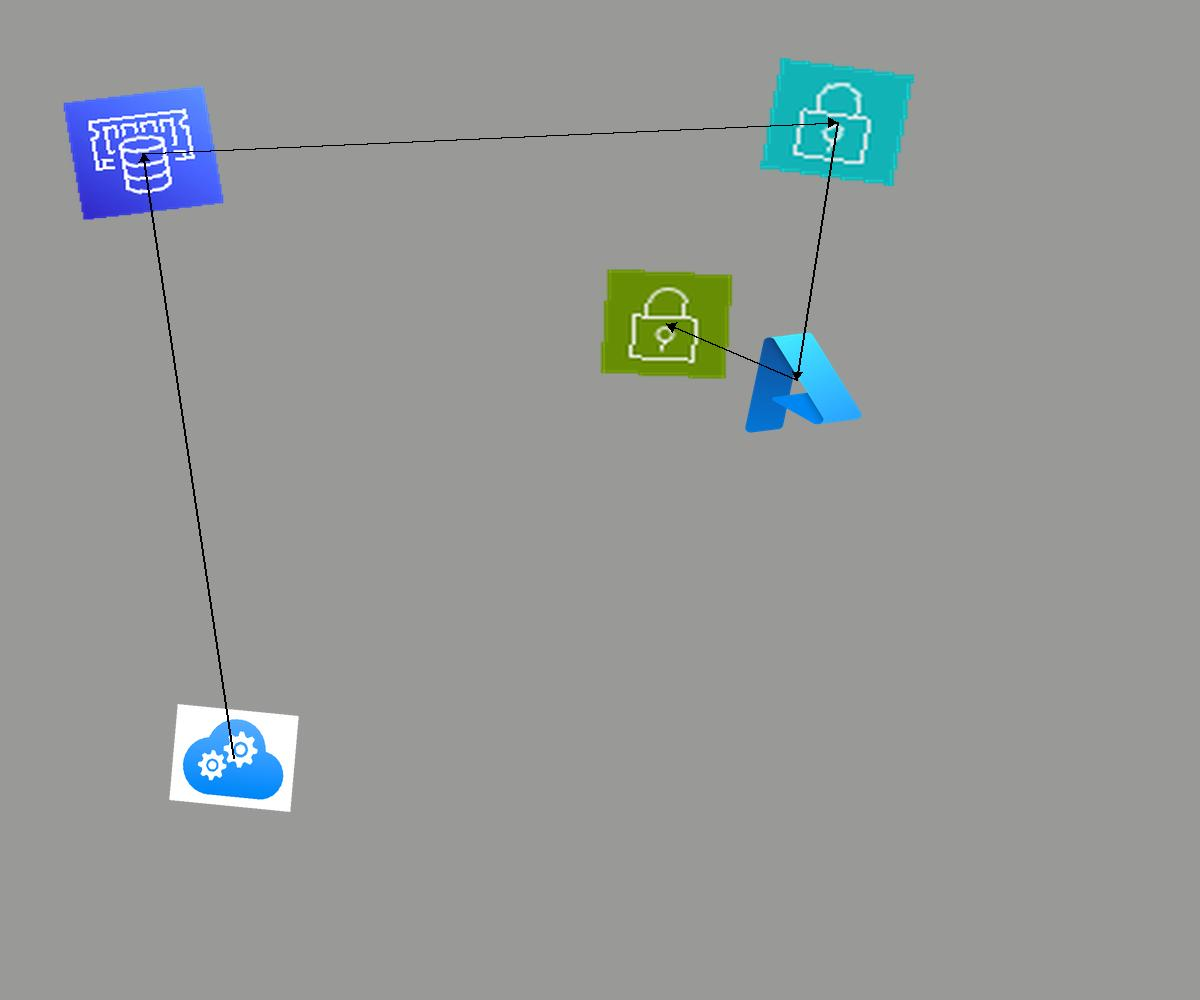AWS-ElastiCache: (62, 85, 225, 221)
AWS-Private-subnet: (760, 58, 914, 186)
AWS-Public-subnet: (598, 267, 735, 381)
Azure_cloud_services: (169, 704, 299, 812)
Azure_services: (723, 320, 869, 441)
